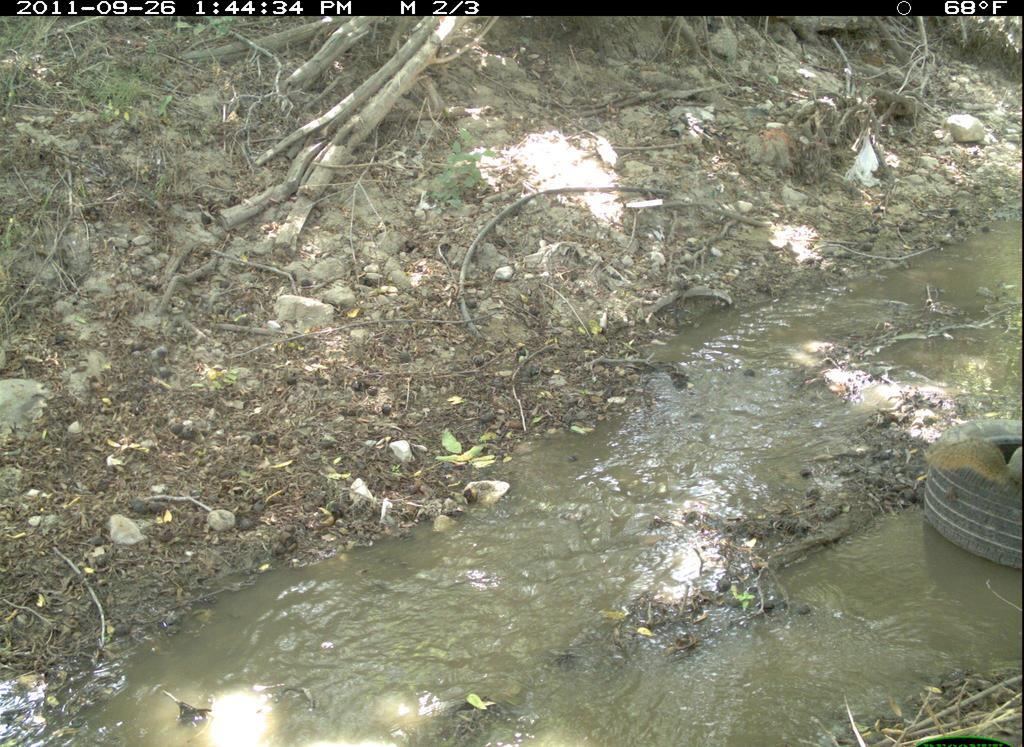squirrel: (921, 436, 1023, 501)
